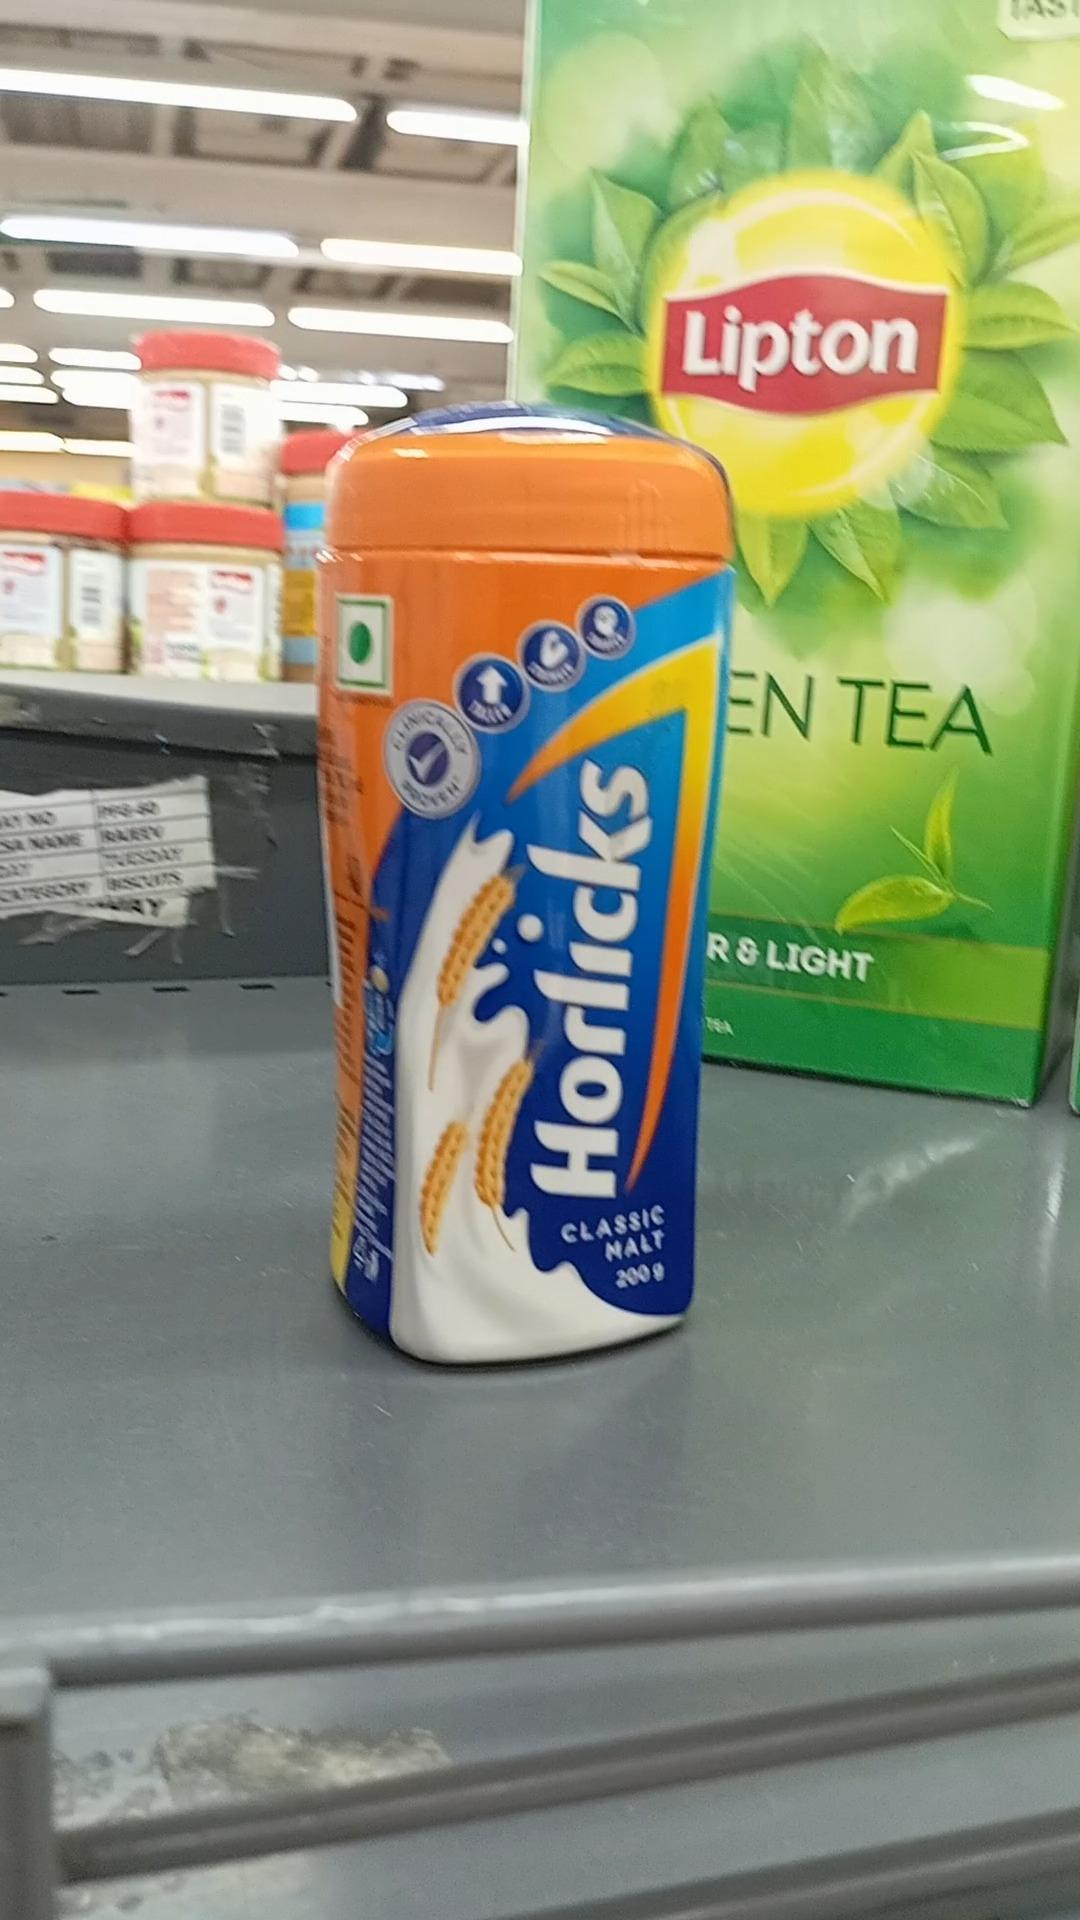HORLICK_CLASSIC_MALT_200_G_JAR: (324, 417, 713, 1375)
